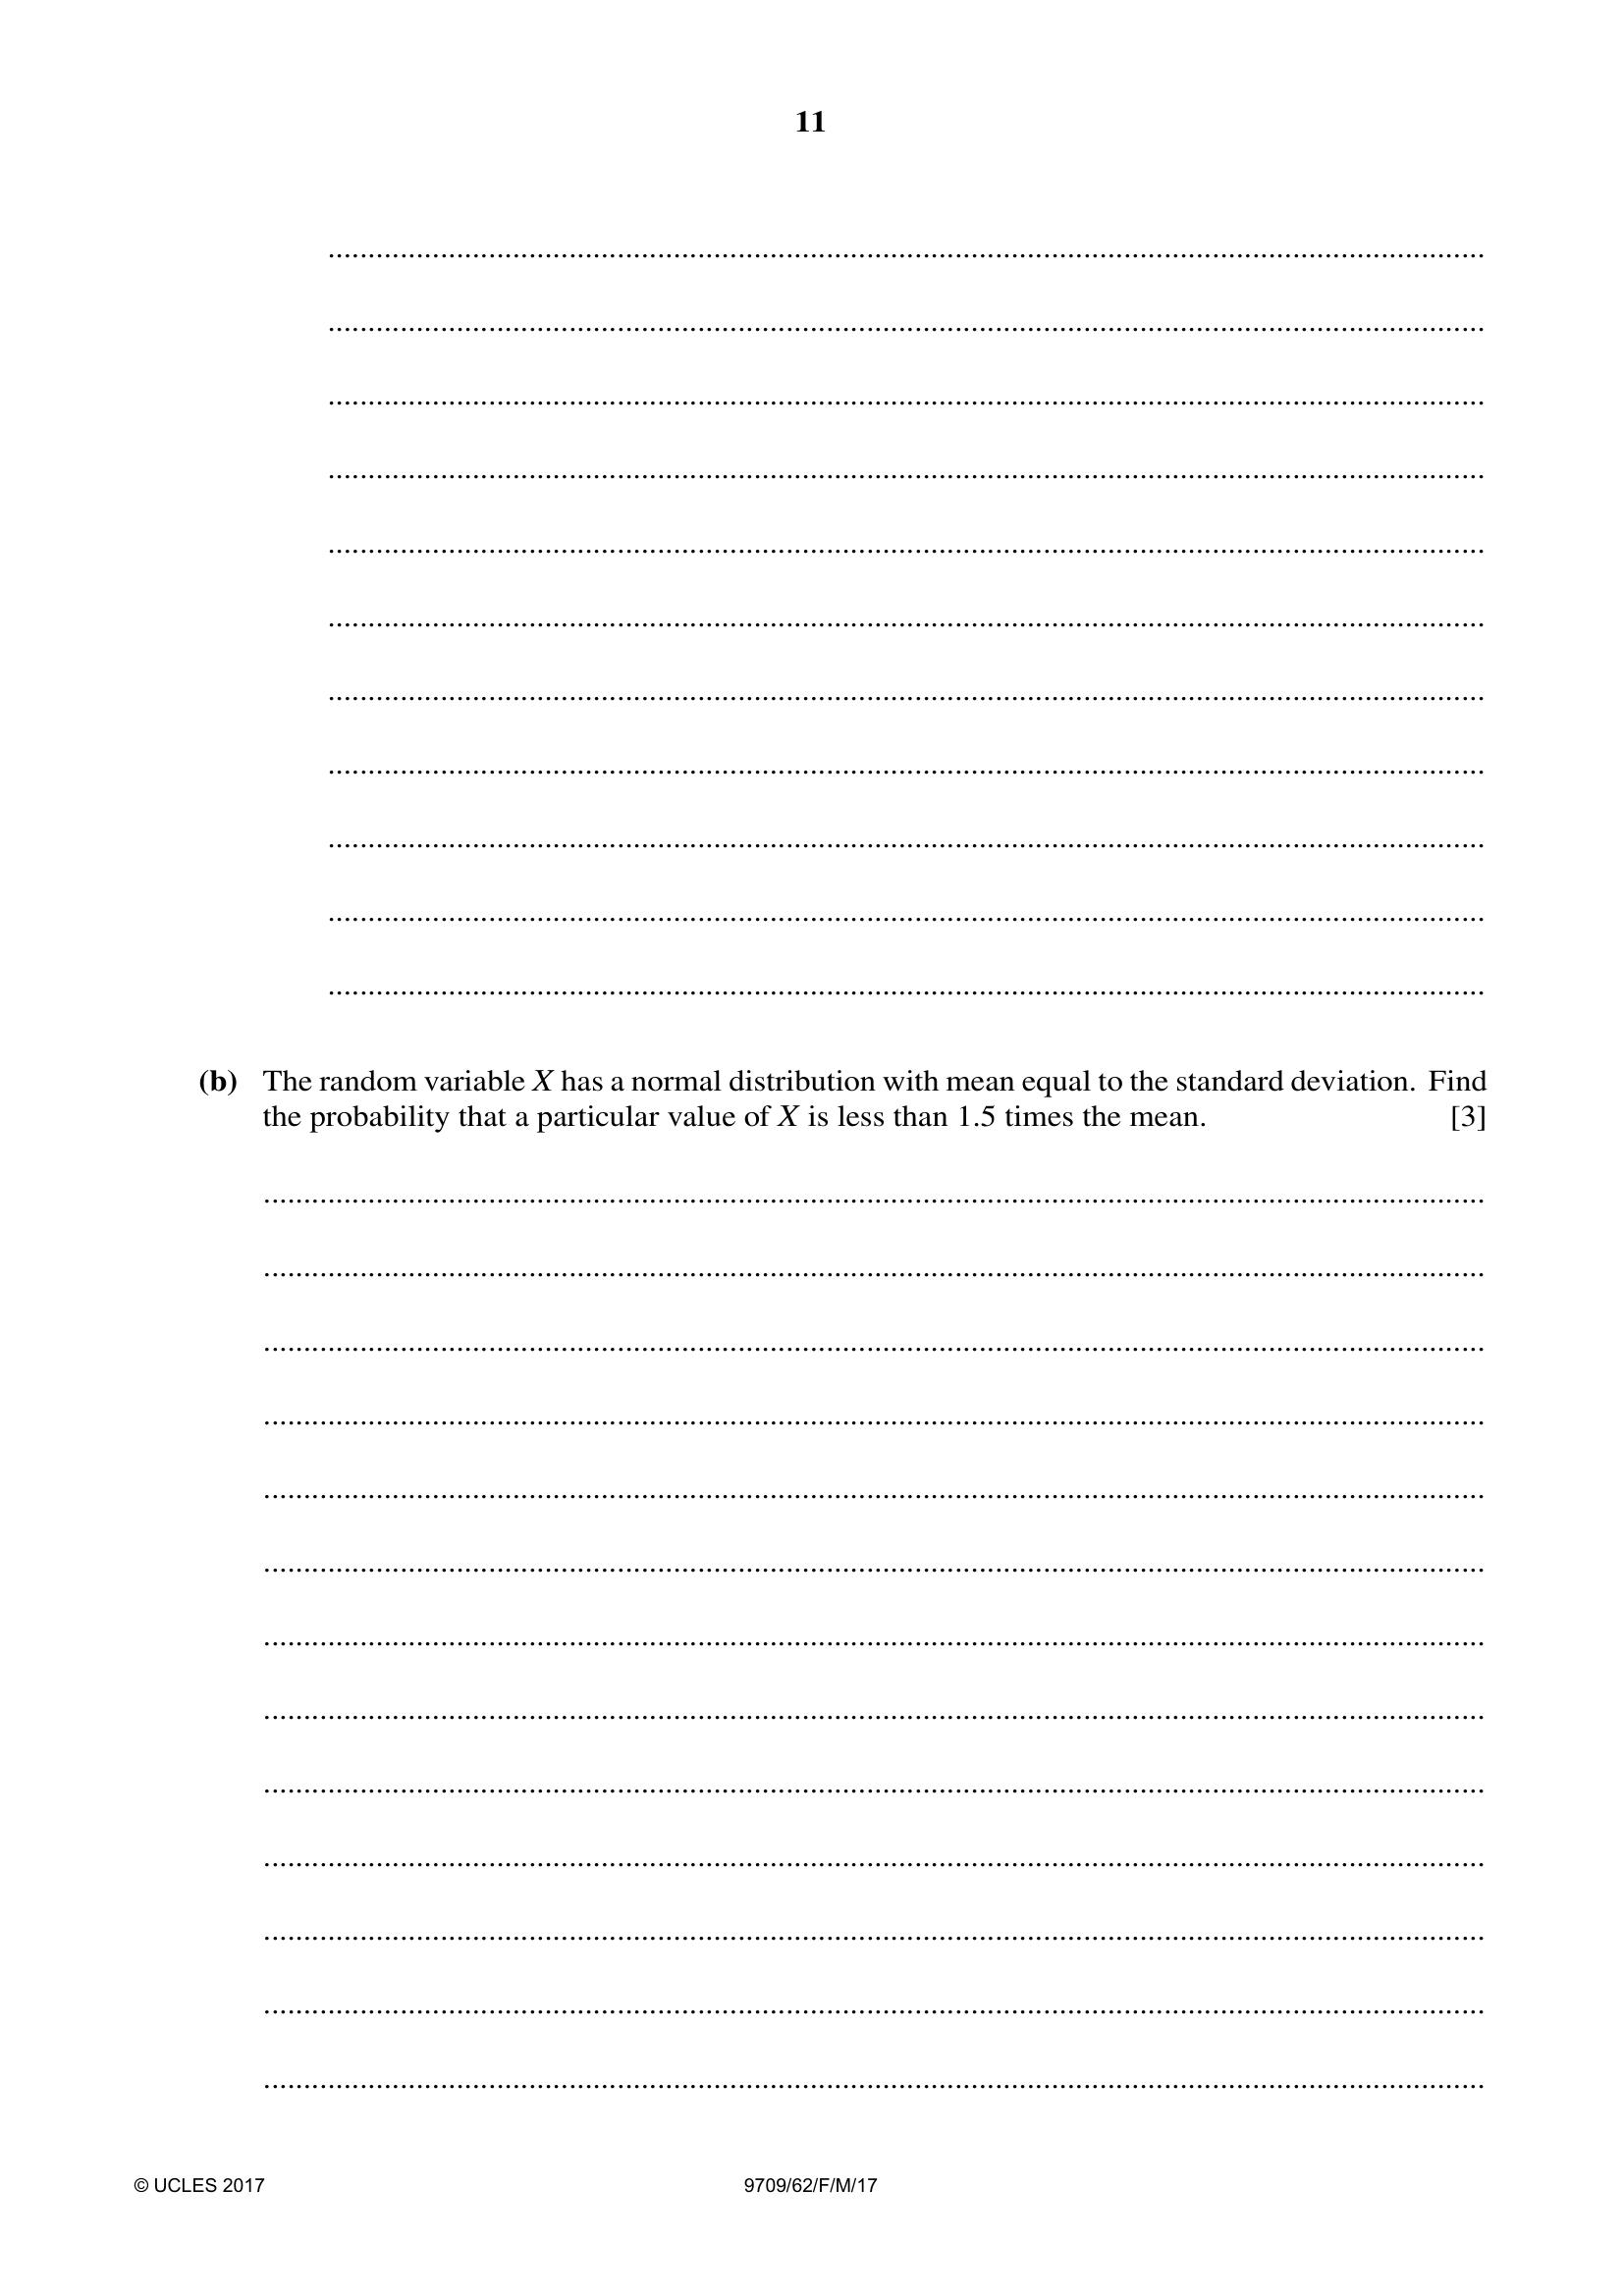continued question: (2, 183, 1623, 2131)
